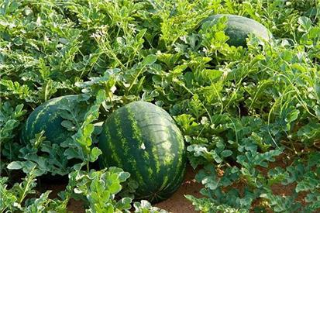dua_hau: (99, 99, 190, 205)
